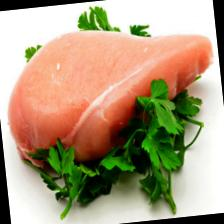chicken: (0, 16, 224, 169)
